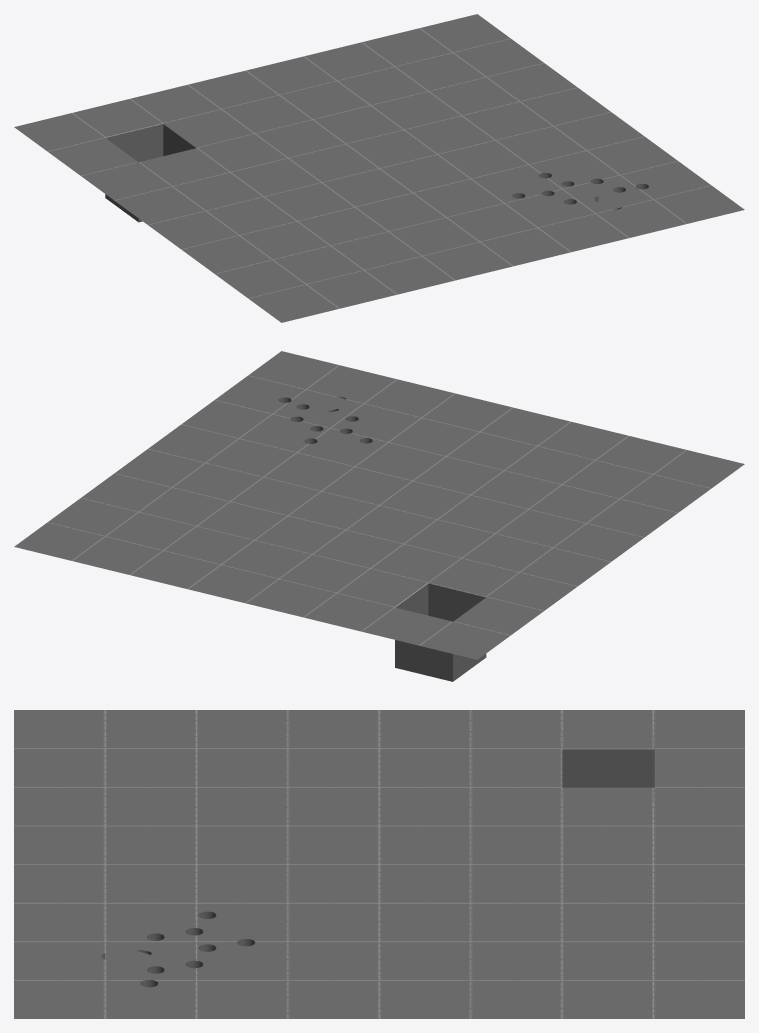
File: arena_floor.fbx
The picture shows the model from 3 angles, top to bottom: view 1: azimuth 30°, elevation 25°; view 2: azimuth 150°, elevation 25°; view 3: azimuth 270°, elevation 25°; orthographic projection. The views are drawn at different scales.
Visible parts, largest first — view 1: arena_floor; view 2: arena_floor; view 3: arena_floor.
Boxes of the visible parts, <box> form: arena_floor: <box>14,14,744,322</box>; arena_floor: <box>14,351,744,681</box>; arena_floor: <box>14,710,744,1018</box>.
Bounding box in the file's own units: 1600 × 200 × 1600.
1 material, 1 textured.
